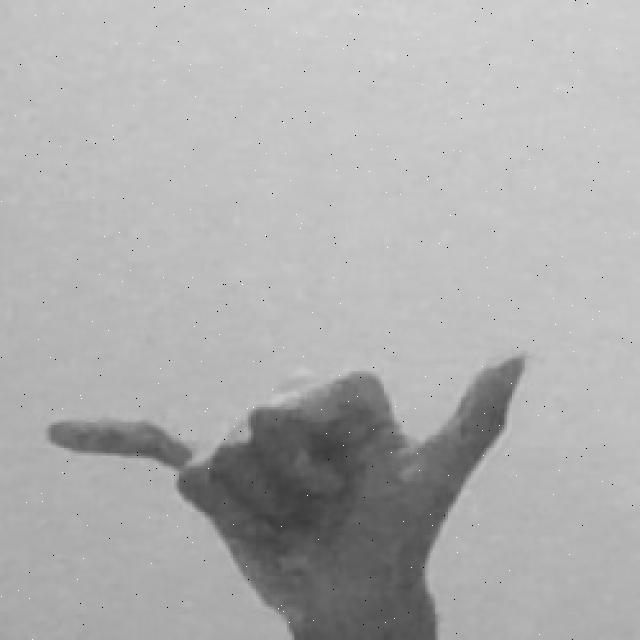Y: (40, 340, 533, 640)
